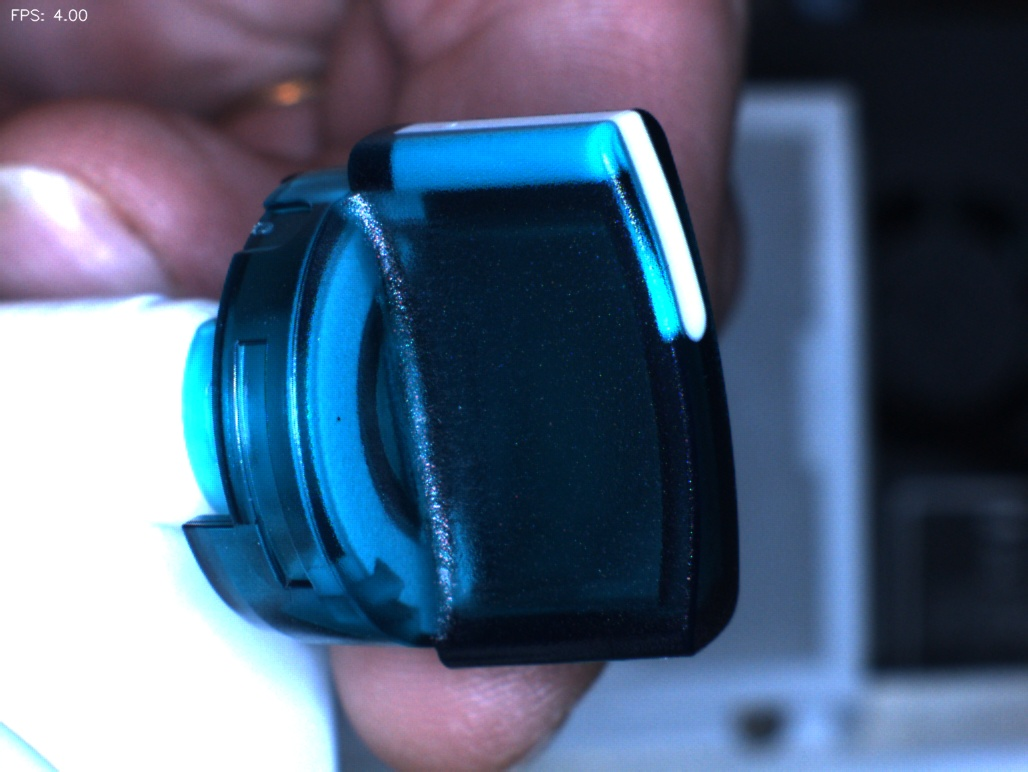PointNoir: (305, 378, 372, 456)
